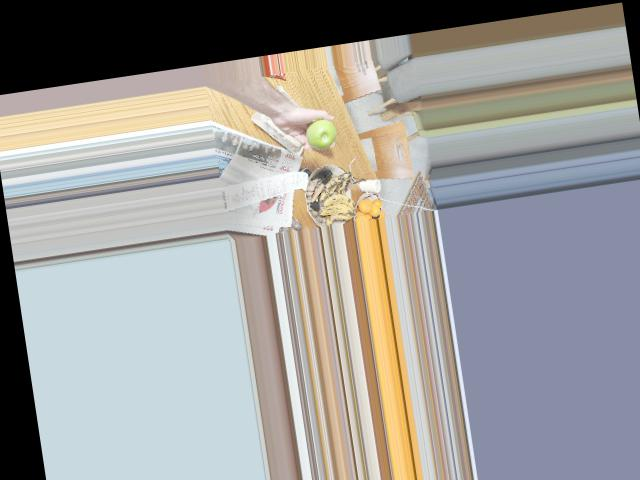apple: (297, 120, 341, 152)
